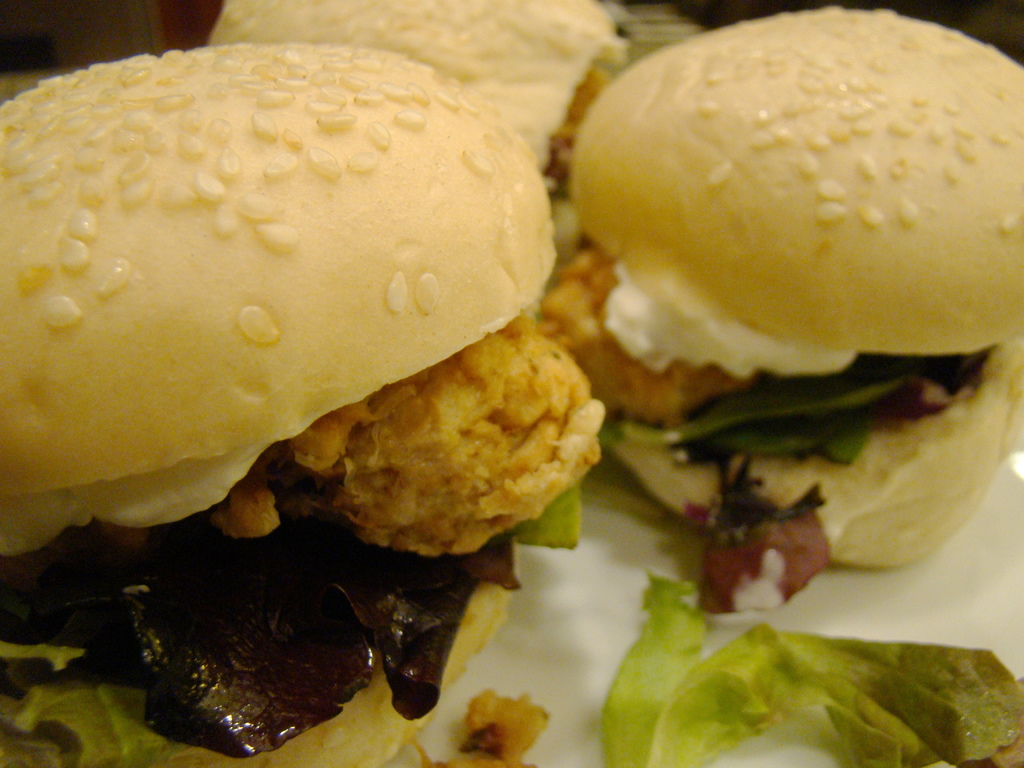Hamburger: (0, 42, 609, 767), (541, 3, 1023, 608), (205, 0, 634, 268)
